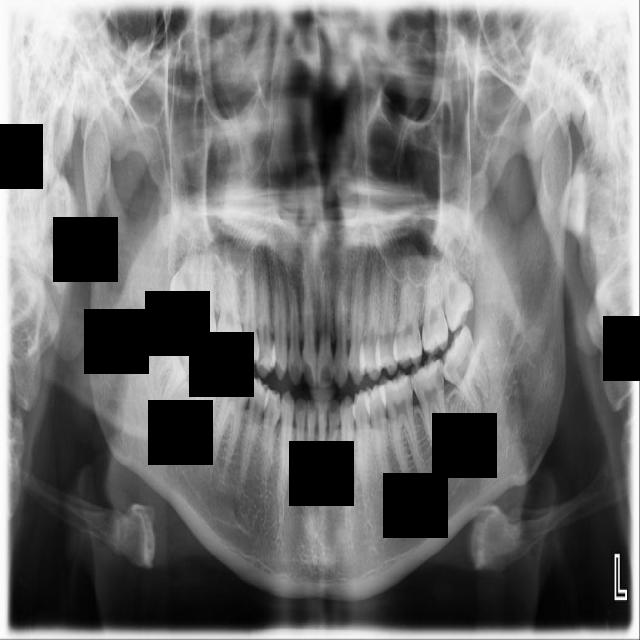3M ESPE Implant: (166, 231, 202, 322)
52: (195, 355, 205, 383), (435, 365, 445, 391)
73: (587, 566, 591, 580)
BioHorizons Implant: (420, 237, 452, 358)
BioLife Implant: (435, 234, 478, 333)
Biomet 3i Implant: (429, 322, 501, 427)
Blue Sky Bio Implant: (407, 352, 456, 465)
Caries: (186, 238, 218, 347)
Implant: (186, 347, 228, 452)
Keystone Dental Implant: (142, 315, 213, 411)
